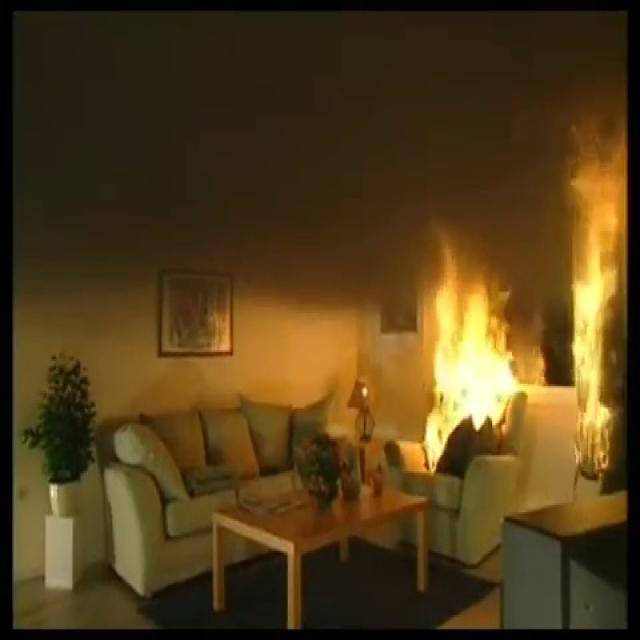Fire: (420, 278, 521, 464), (560, 171, 620, 479)
Smoke: (0, 0, 266, 280), (310, 0, 552, 268), (206, 0, 410, 312)
